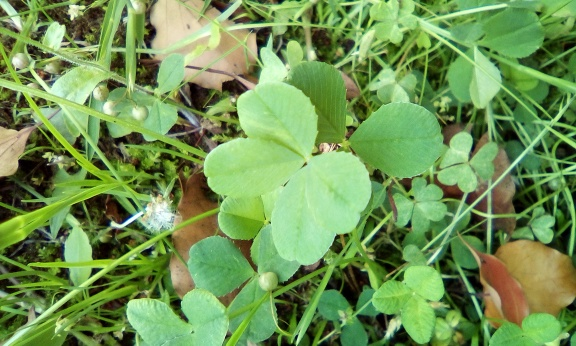4leaf: (203, 81, 374, 267)
